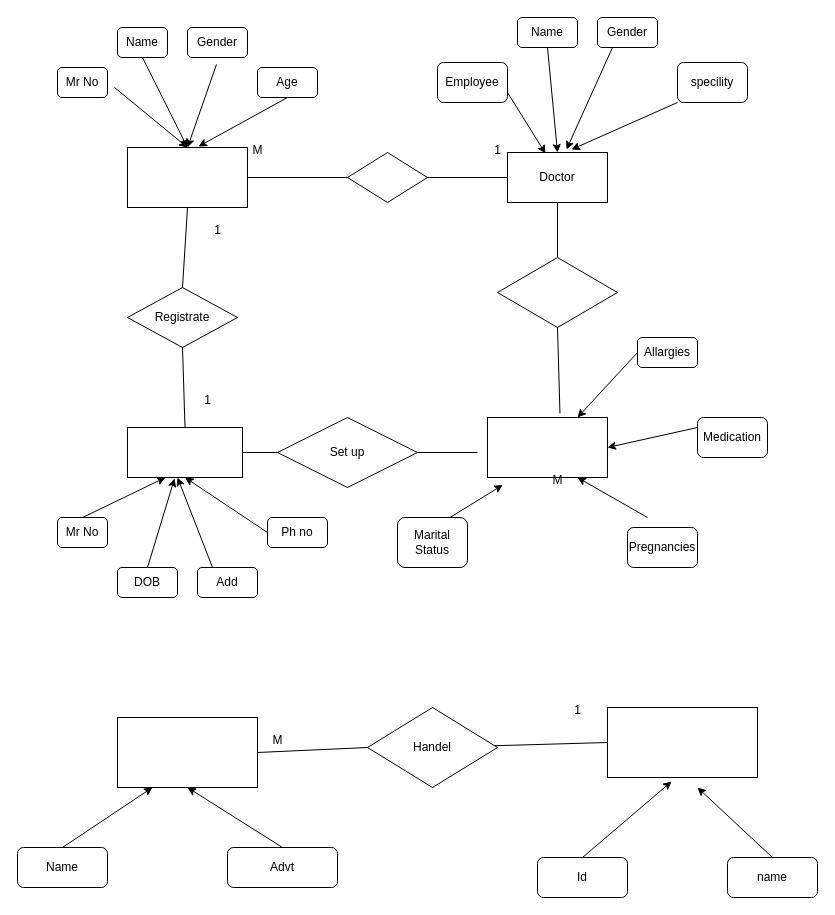
The diagram is 835 pixels wide and 915 high, and some of its shapes have lost their labels. The centre of each missing label's shape, as x and y in pixels:
"Admin" goes at [682,742].
"Consult" goes at [387,177].
"Fill up" goes at [557,292].
"Medical Record" goes at [547,447].
"Patient" goes at [187,177].
"Registration" goes at [184,452].
"Vendor" goes at [187,752].
